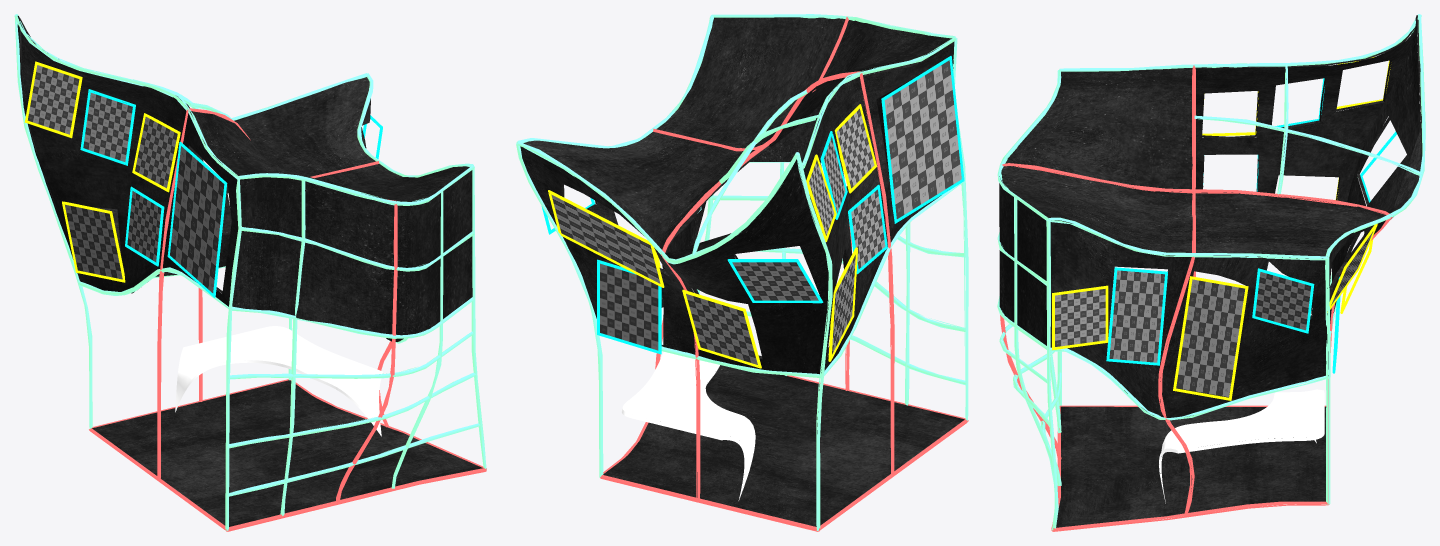
Rendered from Booth3 V2_neonified_Blank.glb.
3 renders of one model, left to right at view 1: azimuth 30°, elevation 25°; view 2: azimuth 150°, elevation 25°; view 3: azimuth 270°, elevation 25°, orthographic. The views are drawn at different scales.
Visible parts, largest first — view 1: 3 -NEON 2, NUOVOTETE, PIP1, LEFT, PIP2, frame bluu, frame giallo; view 2: NUOVOTETE, 3 -NEON 2, PIP1, LEFT, FRONT, PIP2, frame bluu, frame giallo; view 3: NUOVOTETE, 3 -NEON 2, RIGHT, PIP1, PIP2, frame giallo, frame bluu.
Boxes of the visible parts, left/top/right/bottom form: 3 -NEON 2: left=19, top=26, right=482, bottom=526; NUOVOTETE: left=17, top=16, right=472, bottom=341; PIP1: left=14, top=14, right=486, bottom=530; LEFT: left=27, top=65, right=224, bottom=292; PIP2: left=89, top=108, right=486, bottom=531; frame bluu: left=80, top=89, right=382, bottom=297; frame giallo: left=24, top=61, right=180, bottom=282; NUOVOTETE: left=520, top=17, right=954, bottom=373; 3 -NEON 2: left=603, top=38, right=964, bottom=526; PIP1: left=516, top=14, right=968, bottom=530; LEFT: left=809, top=60, right=961, bottom=354; FRONT: left=551, top=194, right=818, bottom=364; PIP2: left=600, top=17, right=968, bottom=531; frame bluu: left=541, top=56, right=964, bottom=354; frame giallo: left=548, top=104, right=877, bottom=368; NUOVOTETE: left=999, top=15, right=1422, bottom=417; 3 -NEON 2: left=1056, top=27, right=1415, bottom=527; RIGHT: left=1055, top=270, right=1311, bottom=397; PIP1: left=997, top=14, right=1425, bottom=530; PIP2: left=1000, top=65, right=1392, bottom=531; frame giallo: left=1052, top=57, right=1390, bottom=400; frame bluu: left=1106, top=78, right=1396, bottom=373.
Size of the model in its own units: 5.01 by 5.91 by 6.01.
8 materials, 3 textured.
